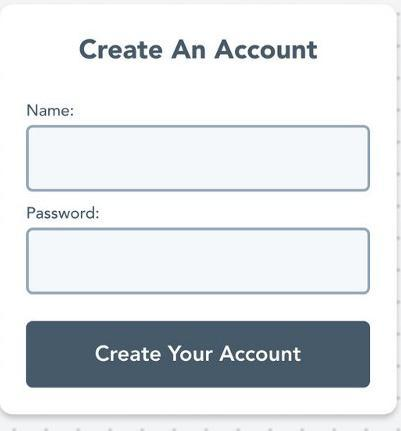button: (27, 319, 372, 393)
input: (28, 226, 374, 296), (26, 126, 372, 195)
label: (26, 206, 101, 224), (25, 103, 76, 120)
